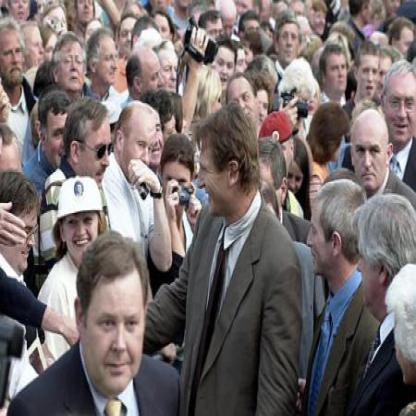face: (83, 239, 150, 396), (196, 122, 231, 218), (6, 185, 42, 274), (64, 178, 101, 264), (80, 106, 114, 195), (354, 113, 389, 195), (47, 93, 82, 174), (124, 108, 159, 186), (163, 140, 194, 216), (58, 36, 88, 96), (228, 74, 257, 136), (1, 27, 26, 92), (141, 50, 167, 110), (280, 145, 305, 205), (155, 48, 182, 101), (96, 32, 122, 87), (326, 46, 351, 97), (24, 24, 48, 77), (359, 46, 382, 101), (214, 43, 238, 92), (279, 15, 302, 66), (121, 16, 143, 59), (152, 12, 171, 55), (219, 2, 237, 45), (313, 4, 329, 37), (78, 1, 96, 25)
